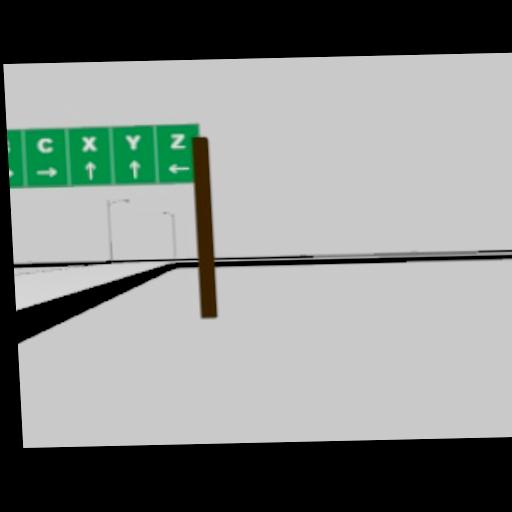Right: (9, 167, 15, 179)
